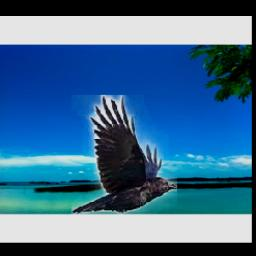Crow: (72, 96, 177, 215)
